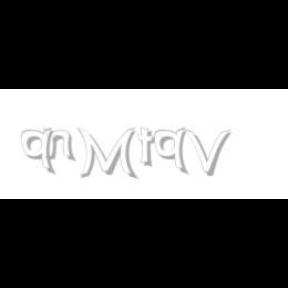M: (76, 128, 136, 180)
V: (183, 128, 231, 176)
n: (43, 128, 77, 162)
q: (21, 128, 57, 176), (154, 128, 190, 176)
t: (137, 128, 159, 168)
